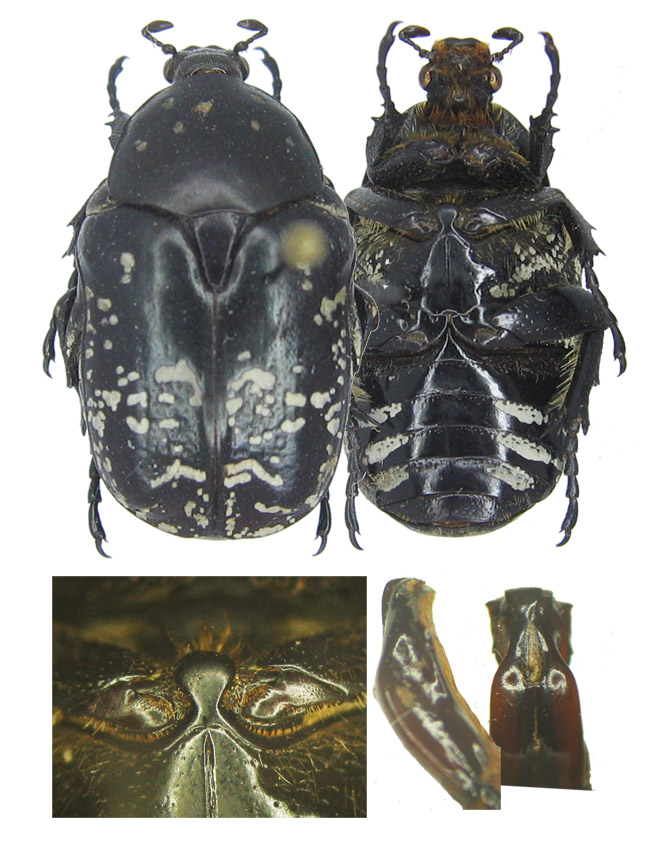Protaetia_funebris: (35, 6, 362, 567)
